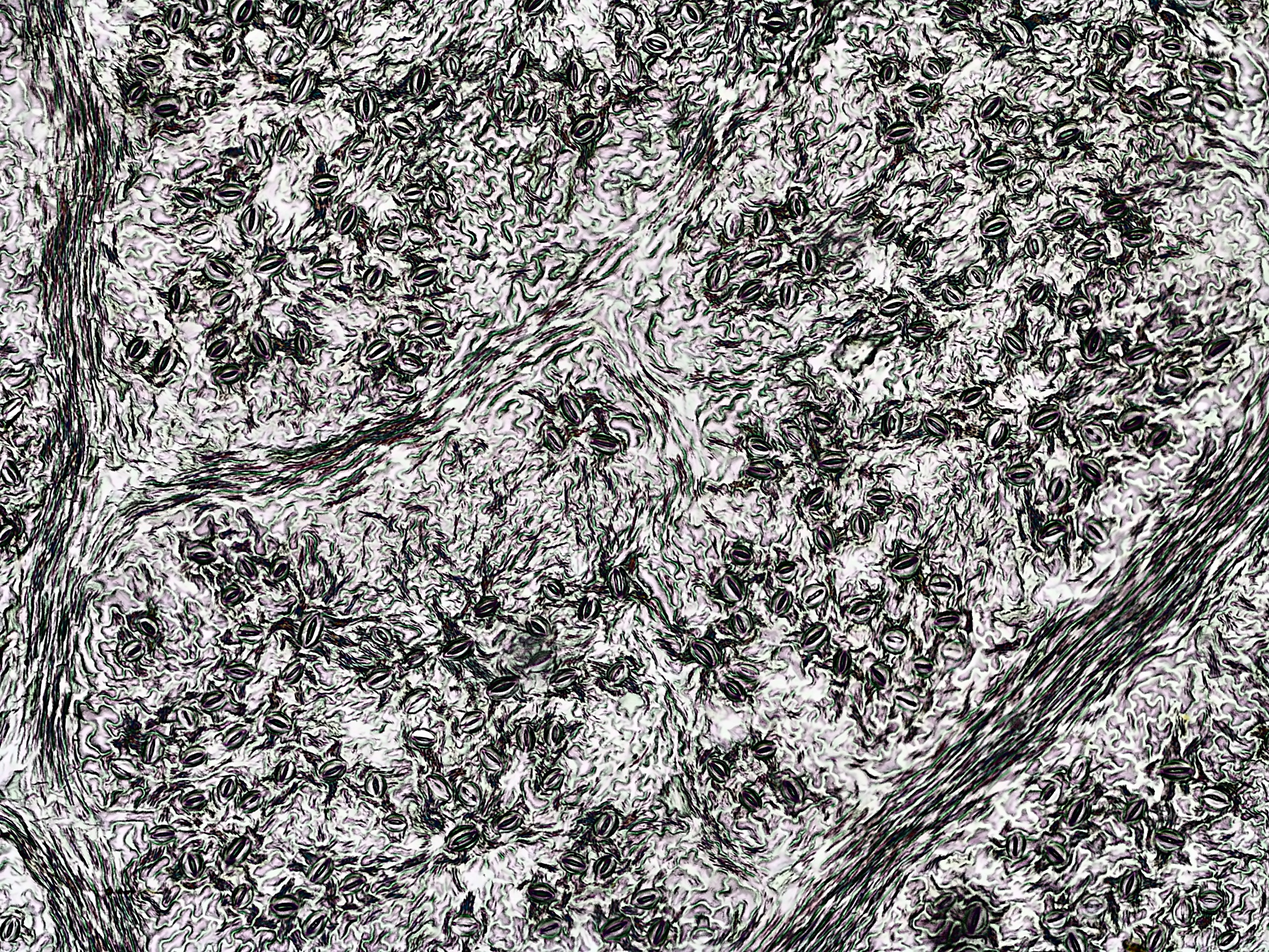stomata: (246, 248, 291, 286), (442, 905, 486, 940), (814, 446, 863, 475), (403, 262, 447, 294), (1059, 747, 1096, 784), (204, 282, 242, 315), (423, 766, 455, 802), (903, 79, 941, 109), (718, 568, 749, 604), (699, 258, 729, 295), (873, 212, 903, 249), (742, 732, 779, 762), (1206, 330, 1239, 363), (923, 165, 955, 199), (133, 727, 164, 762), (260, 702, 296, 732), (1201, 85, 1233, 118), (436, 51, 470, 82), (592, 804, 623, 838), (585, 432, 624, 459), (460, 774, 487, 813), (222, 829, 252, 864), (1000, 13, 1029, 49), (1081, 322, 1110, 358), (198, 333, 236, 360), (351, 89, 382, 122), (399, 684, 432, 715), (925, 570, 958, 601), (357, 264, 387, 298), (1160, 81, 1194, 111), (1079, 418, 1113, 448), (971, 899, 996, 939), (216, 717, 253, 744), (1116, 404, 1147, 436), (797, 232, 819, 277), (1066, 790, 1092, 828), (981, 211, 1018, 237), (961, 265, 998, 291), (205, 256, 236, 287), (133, 55, 173, 79), (878, 622, 908, 654), (955, 379, 988, 408), (0, 390, 27, 425), (486, 670, 521, 697), (876, 286, 912, 312), (783, 187, 808, 224), (919, 410, 952, 438), (265, 554, 298, 582), (801, 617, 829, 650), (199, 682, 232, 710), (154, 345, 181, 379), (1041, 340, 1065, 378), (1124, 340, 1162, 364), (735, 280, 771, 305), (863, 484, 899, 509), (1042, 841, 1072, 871), (529, 96, 558, 127), (978, 91, 1009, 120), (981, 145, 1012, 174), (216, 582, 247, 611), (1118, 797, 1150, 825), (739, 248, 776, 272), (1035, 517, 1069, 543), (178, 743, 218, 765), (230, 873, 255, 908), (573, 111, 602, 141), (720, 676, 750, 705), (923, 48, 950, 80), (1083, 517, 1107, 553), (1200, 783, 1232, 810), (1154, 825, 1186, 852), (1022, 280, 1055, 306), (888, 544, 921, 570), (6, 909, 32, 942), (448, 825, 481, 851), (634, 881, 667, 907), (288, 67, 313, 101), (223, 37, 248, 71), (1009, 170, 1043, 195), (300, 615, 325, 649), (1004, 825, 1029, 859), (280, 657, 309, 686), (397, 348, 427, 376), (135, 607, 163, 637), (1082, 896, 1117, 920), (316, 252, 347, 279), (1158, 31, 1189, 58), (308, 172, 340, 198), (887, 119, 919, 145), (209, 366, 255, 384), (1078, 458, 1111, 483), (441, 634, 474, 659), (527, 881, 568, 901), (882, 407, 906, 441), (397, 179, 426, 207), (1084, 68, 1113, 96), (1031, 405, 1060, 433), (541, 574, 570, 602), (242, 132, 269, 162), (644, 30, 674, 57), (679, 0, 709, 27), (730, 608, 757, 638), (1154, 761, 1199, 779), (470, 592, 501, 618), (563, 395, 589, 426), (166, 282, 191, 314), (363, 665, 395, 690), (409, 723, 441, 748), (780, 278, 802, 314), (985, 416, 1009, 449), (363, 338, 391, 366), (1053, 117, 1081, 145), (374, 226, 408, 249), (1040, 905, 1074, 928), (691, 636, 717, 666), (893, 688, 923, 714), (319, 758, 350, 783), (615, 1, 637, 36), (108, 757, 140, 781), (725, 210, 748, 243), (705, 753, 728, 786), (759, 201, 780, 237), (611, 560, 632, 596), (173, 185, 202, 211), (1223, 0, 1252, 26), (1051, 203, 1080, 229), (423, 312, 453, 337), (1133, 91, 1158, 121), (1117, 867, 1142, 897), (943, 0, 977, 22), (176, 846, 200, 877), (1037, 774, 1061, 805), (421, 96, 453, 119), (590, 64, 613, 96), (1121, 227, 1156, 248), (745, 458, 780, 479), (604, 912, 631, 939), (236, 554, 264, 580), (123, 636, 149, 664), (1168, 893, 1194, 921), (1210, 925, 1238, 951), (649, 912, 671, 945), (122, 332, 147, 361), (939, 286, 968, 311), (276, 753, 301, 782), (279, 124, 300, 158), (380, 810, 411, 833), (564, 58, 586, 90), (1195, 888, 1227, 910), (545, 418, 564, 455), (139, 25, 165, 52), (1168, 361, 1194, 388), (477, 747, 505, 772), (939, 635, 967, 660), (770, 587, 794, 616), (513, 717, 534, 750), (1079, 238, 1109, 261), (578, 594, 601, 624), (931, 608, 961, 631), (783, 775, 806, 805), (848, 597, 879, 619), (534, 914, 565, 936), (1002, 327, 1027, 354), (720, 14, 741, 46), (800, 482, 828, 506), (725, 541, 753, 565), (1050, 467, 1068, 504), (266, 39, 296, 61), (189, 545, 222, 565), (222, 661, 255, 681), (540, 765, 565, 791), (310, 855, 337, 879), (910, 229, 929, 263), (308, 17, 331, 45), (544, 718, 567, 746), (606, 658, 629, 686), (1011, 114, 1033, 143), (460, 712, 489, 734), (505, 91, 526, 121), (1148, 916, 1166, 951), (1002, 463, 1039, 480), (1201, 55, 1226, 80), (401, 645, 428, 668), (525, 614, 552, 637), (190, 223, 219, 244), (877, 57, 898, 86), (745, 433, 774, 454), (599, 851, 620, 880), (235, 623, 267, 642), (1114, 25, 1134, 55), (832, 262, 862, 282), (302, 913, 327, 937), (230, 0, 256, 23), (764, 11, 787, 37), (429, 185, 452, 211), (624, 53, 642, 86), (3, 456, 22, 487), (269, 895, 300, 914), (0, 512, 14, 554), (152, 822, 181, 842), (522, 0, 558, 16), (547, 666, 579, 684), (293, 329, 315, 355), (774, 557, 800, 579), (217, 184, 247, 203), (495, 815, 525, 834), (930, 892, 963, 909), (339, 196, 357, 227), (368, 622, 392, 645), (365, 773, 389, 796), (563, 846, 586, 870), (868, 661, 887, 690), (741, 786, 763, 811), (815, 526, 836, 552), (806, 580, 827, 606), (908, 323, 940, 340), (1105, 196, 1132, 216), (851, 508, 869, 538), (196, 90, 224, 109), (179, 706, 202, 729), (250, 198, 265, 233), (787, 423, 805, 452), (242, 785, 261, 812), (1067, 930, 1090, 952), (1029, 232, 1047, 260), (216, 773, 236, 798), (342, 875, 371, 892), (914, 656, 937, 677), (258, 330, 278, 354), (152, 103, 186, 117), (509, 45, 526, 73), (353, 140, 377, 159), (855, 194, 873, 219), (811, 412, 836, 430), (835, 647, 851, 675), (166, 5, 183, 31), (279, 4, 301, 23), (412, 225, 432, 245), (184, 791, 208, 807), (393, 120, 419, 134), (191, 52, 211, 70), (1153, 430, 1171, 449), (1075, 298, 1092, 318), (194, 1, 215, 17), (415, 64, 426, 93), (1089, 26, 1102, 50), (978, 39, 996, 56), (130, 83, 148, 99)
